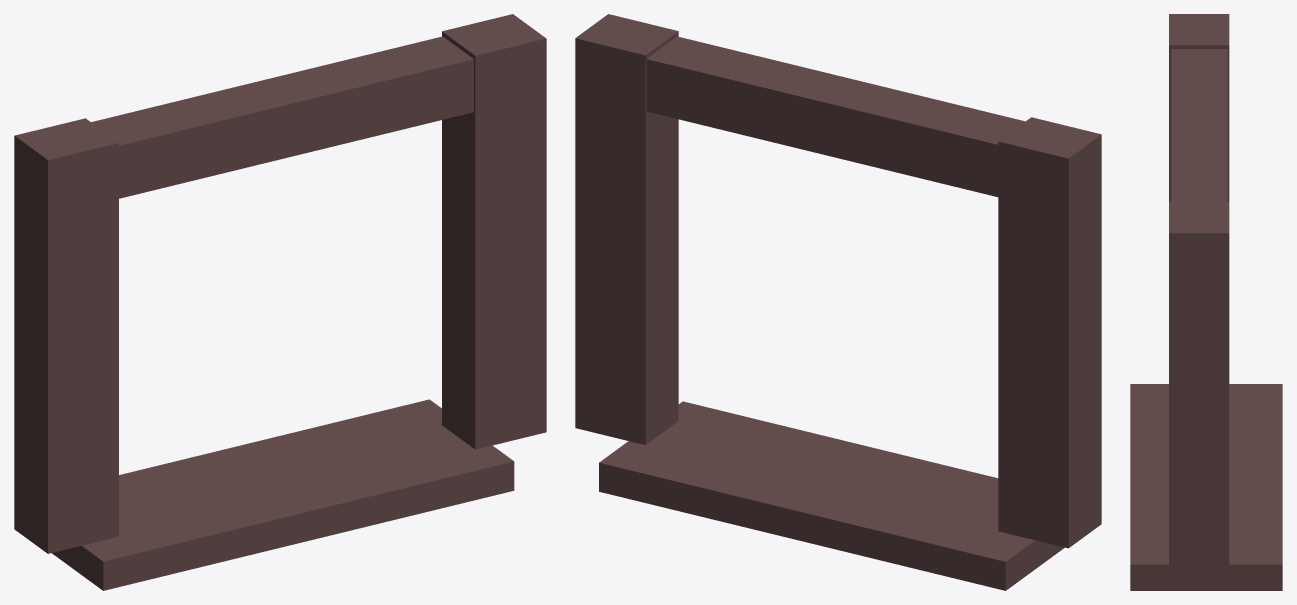
File: windowframe_F.fbx
3 renders of one model, left to right at view 1: azimuth 30°, elevation 25°; view 2: azimuth 150°, elevation 25°; view 3: azimuth 270°, elevation 25°, orthographic. The views are drawn at different scales.
Parts seen in each view (by area): view 1: Cube.018; view 2: Cube.018; view 3: Cube.018.
Part boxes in pixels (bbox=[...]): Cube.018: bbox=[14, 14, 546, 590]; Cube.018: bbox=[575, 14, 1101, 590]; Cube.018: bbox=[1130, 14, 1282, 590].
Bounding box in the file's own units: 265 × 215 × 77.97.
